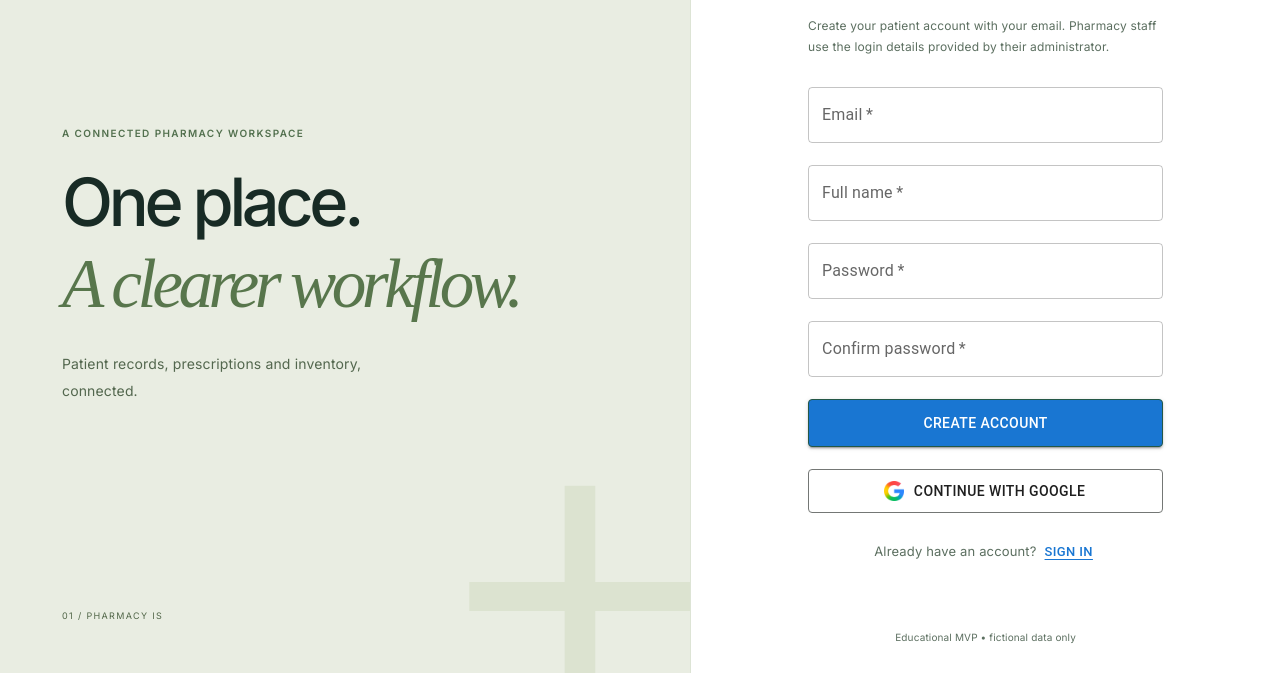
Test: registration has one Sign in action and login clearly identifies Google and staff access
This screenshot has width=1280, height=673.
(page scrolled)
Click the button "Sign in": [1069, 552] box [1041, 535, 1097, 570]
(page scrolled)
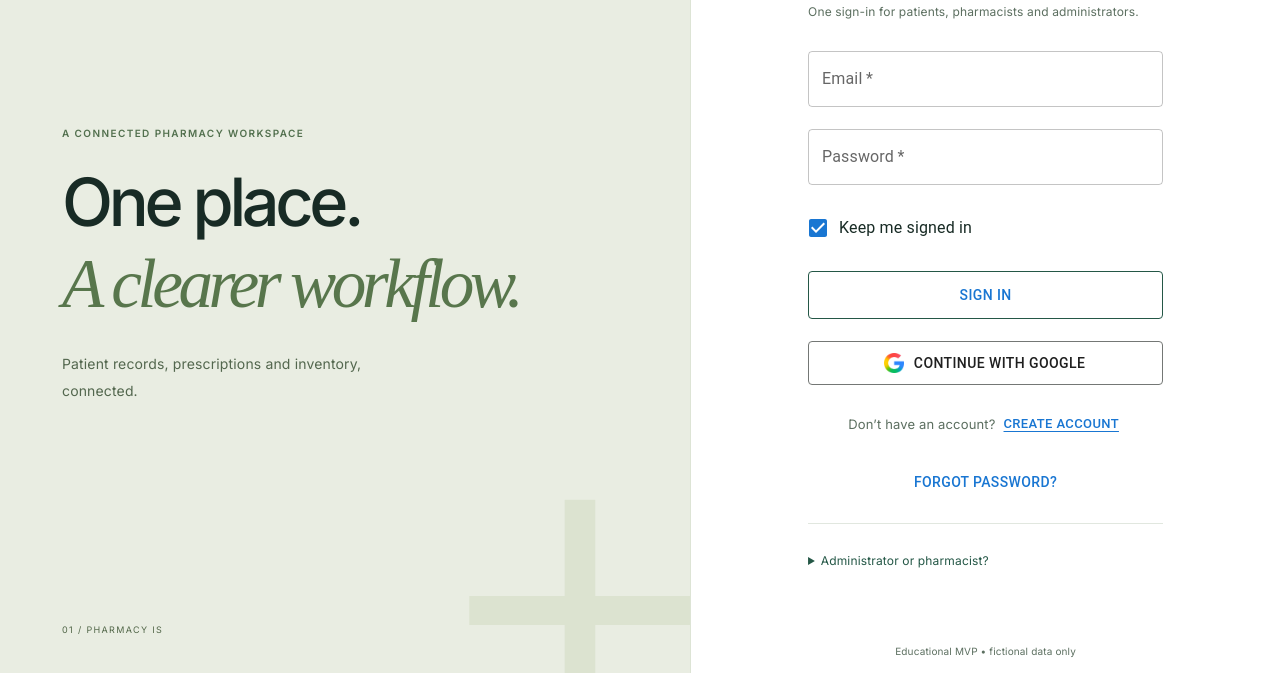
Now the text "Don’t have an account?" is shown, box [848, 415, 996, 434]
Now the heading "Administrator or pharmacist?" is shown, box [821, 553, 989, 568]
